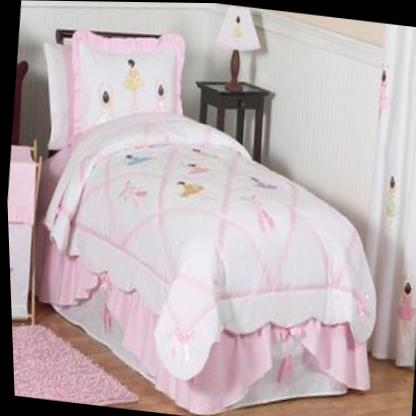Bed: (8, 22, 377, 395)
Carpet: (9, 324, 135, 408)
Curtains: (365, 22, 416, 367)
